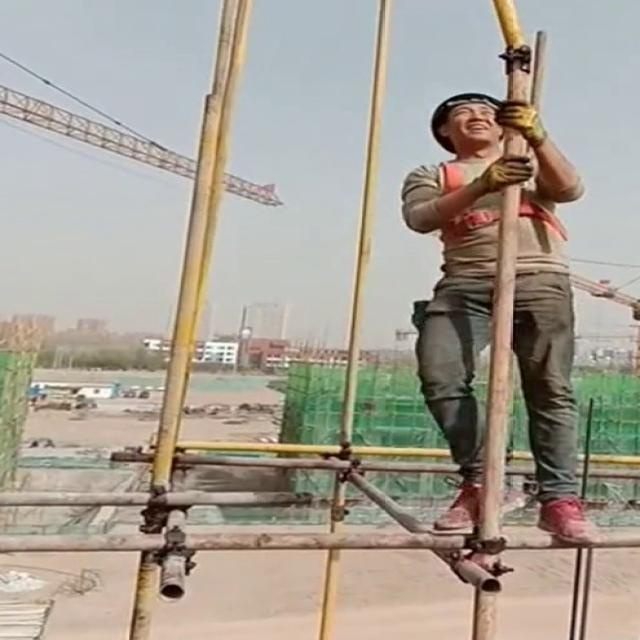Arnes_seguridad: (427, 149, 572, 250)
